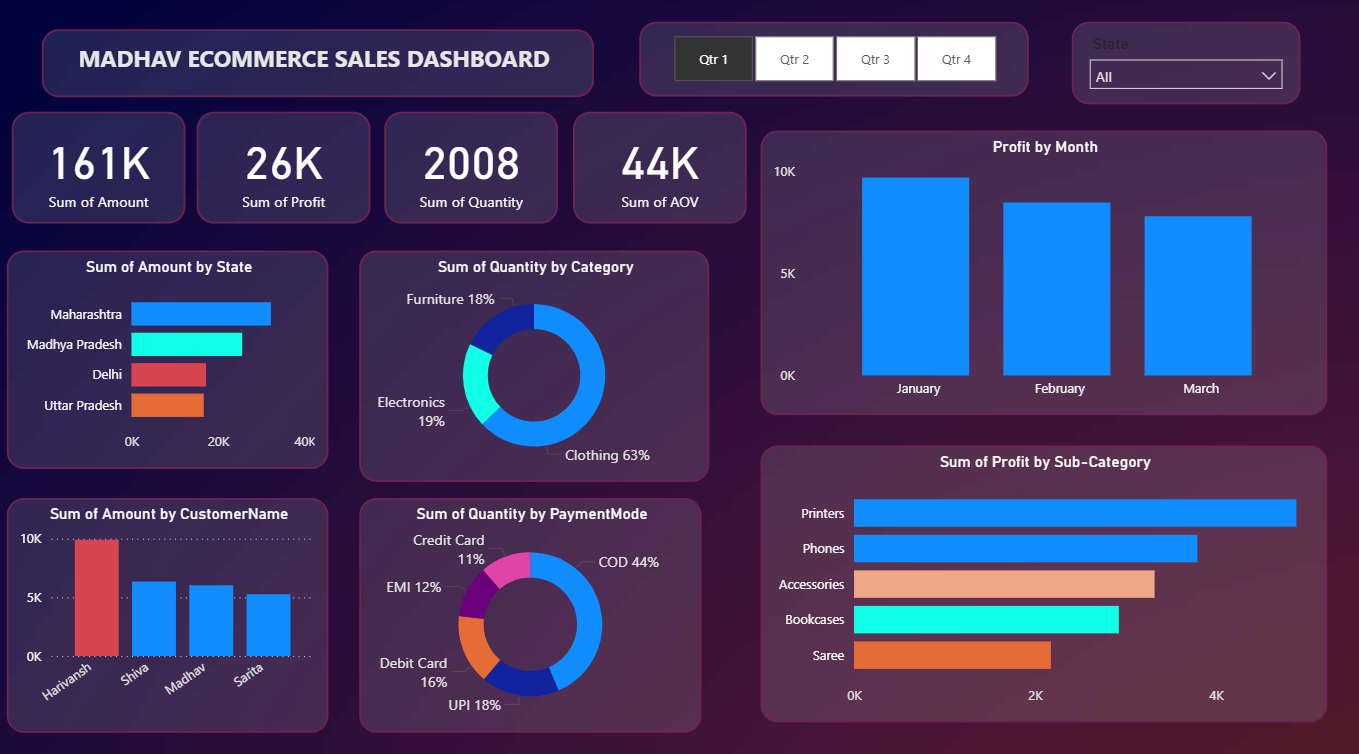

This screenshot's page, from the dashboard's own definition file:
{"tool":"powerbi","page":{"name":"Page 1","canvas":[1280,720],"ordinal":0},"visuals":[{"type":"textbox","box":[41.2,28.8,513.2,63.1],"z":0},{"type":"columnChart","title":"Profit by Month","fields":{"Y":["Details.Profit"],"Category":["Orders.Order Date.Variation.Date Hierarchy.Month"]},"box":[709.4,123.5,526.9,264.8],"z":1000},{"type":"barChart","fields":{"Category":["Details.Sub-Category"],"Y":["Details.Profit"]},"box":[709.4,415.8,526.9,258],"z":2000},{"type":"donutChart","fields":{"Category":["Details.Category"],"Y":["Details.Quantity"]},"box":[336.2,234.6,325.2,215.4],"z":3000},{"type":"donutChart","fields":{"Y":["Details.Quantity"],"Category":["Details.PaymentMode"]},"box":[336.2,465.2,318.4,218.2],"z":4000},{"type":"card","fields":{"Values":["Details.Amount"]},"box":[12.3,105.7,161.9,104.3],"z":5000},{"type":"card","fields":{"Values":["Details.Profit"]},"box":[185.2,105.7,161.9,104.3],"z":6000},{"type":"card","fields":{"Values":["Details.AOV"]},"box":[535.2,105.7,161.9,104.3],"z":7000},{"type":"card","fields":{"Values":["Details.Quantity"]},"box":[359.5,105.7,161.9,104.3],"z":8000},{"type":"barChart","fields":{"Category":["Orders.State"],"Y":["Details.Amount"]},"box":[8.2,234.6,299.1,203.1],"z":9000},{"type":"columnChart","fields":{"Category":["Orders.CustomerName"],"Y":["Details.Amount"]},"box":[8,465,299,218],"z":10000},{"type":"slicer","fields":{"Values":["Orders.Order Date.Variation.Date Hierarchy.Quarter"]},"box":[596.9,22,362.3,70],"z":11000},{"type":"slicer","fields":{"Values":["Orders.State"]},"box":[999,22,212.7,76.8],"z":12000}]}

Visuals, with their boxes in screenshot pixels (x1, y1, x2, y2), scaled from the page's 1280x720 canvas onto the 1359x754 screenshot:
textbox: left=44, top=30, right=589, bottom=96
"Profit by Month" columnChart: left=753, top=129, right=1313, bottom=407
barChart - Details.Sub-Category x Details.Profit: left=753, top=435, right=1313, bottom=706
donutChart - Details.Category x Details.Quantity: left=357, top=246, right=702, bottom=471
donutChart - Details.Quantity x Details.PaymentMode: left=357, top=487, right=695, bottom=716
card - Details.Amount: left=13, top=111, right=185, bottom=220
card - Details.Profit: left=197, top=111, right=369, bottom=220
card - Details.AOV: left=568, top=111, right=740, bottom=220
card - Details.Quantity: left=382, top=111, right=554, bottom=220
barChart - Orders.State x Details.Amount: left=9, top=246, right=326, bottom=458
columnChart - Orders.CustomerName x Details.Amount: left=8, top=487, right=326, bottom=715
slicer - Orders.Order Date.Variation.Date Hierarchy.Quarter: left=634, top=23, right=1018, bottom=96
slicer - Orders.State: left=1061, top=23, right=1286, bottom=103
